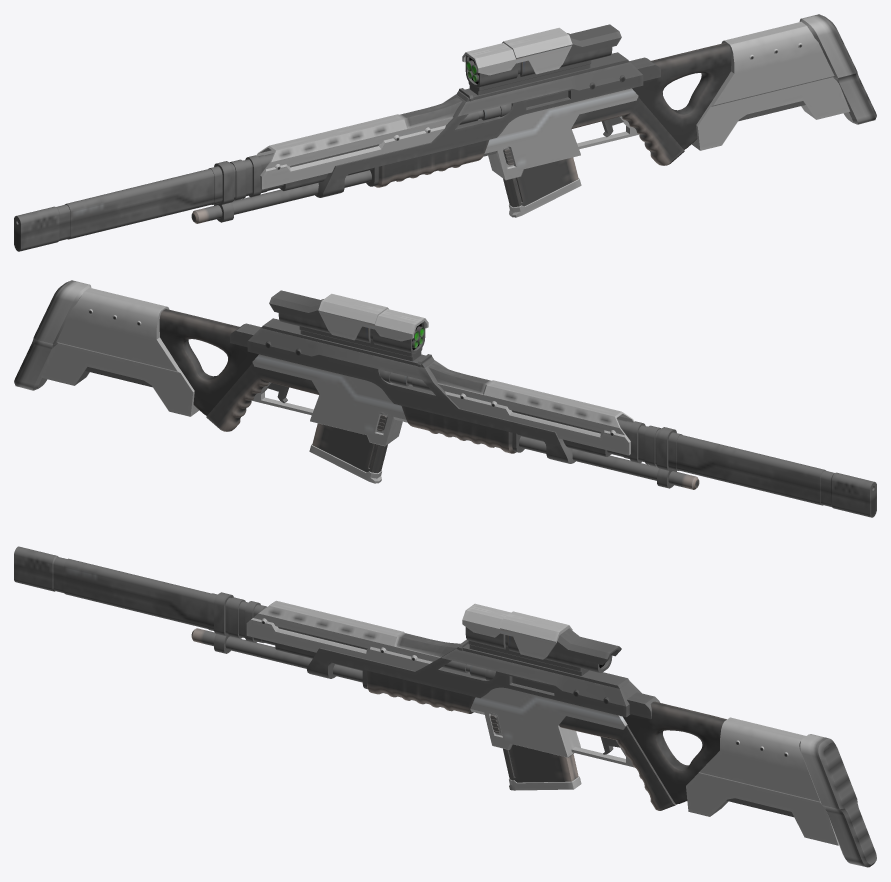
File: gun_sniper.glb
The picture shows the model from 3 angles, top to bottom: view 1: azimuth 30°, elevation 25°; view 2: azimuth 150°, elevation 25°; view 3: azimuth 330°, elevation 25°; orthographic projection.
Visible parts, largest first — view 1: Gun_Sniper; view 2: Gun_Sniper; view 3: Gun_Sniper.
Part boxes in pixels (x1,y1,x2,y2): Gun_Sniper: (14,14,876,251); Gun_Sniper: (14,280,876,517); Gun_Sniper: (14,546,876,867).
Bounding box in the file's own units: 1.72 × 0.3298 × 0.0591.
1 material, 1 textured.
